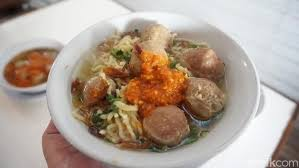bakso: (74, 26, 242, 160)
